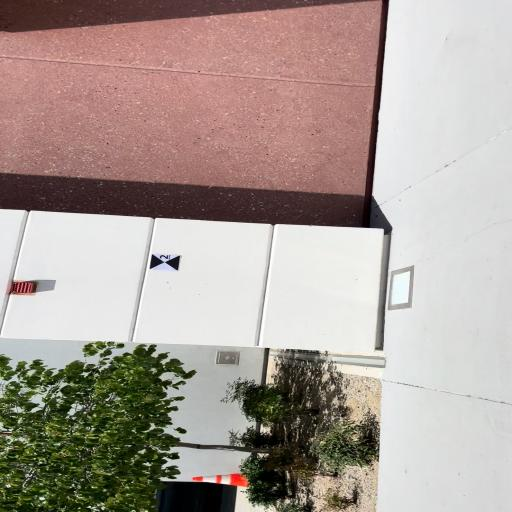target2: (149, 253, 180, 271)
